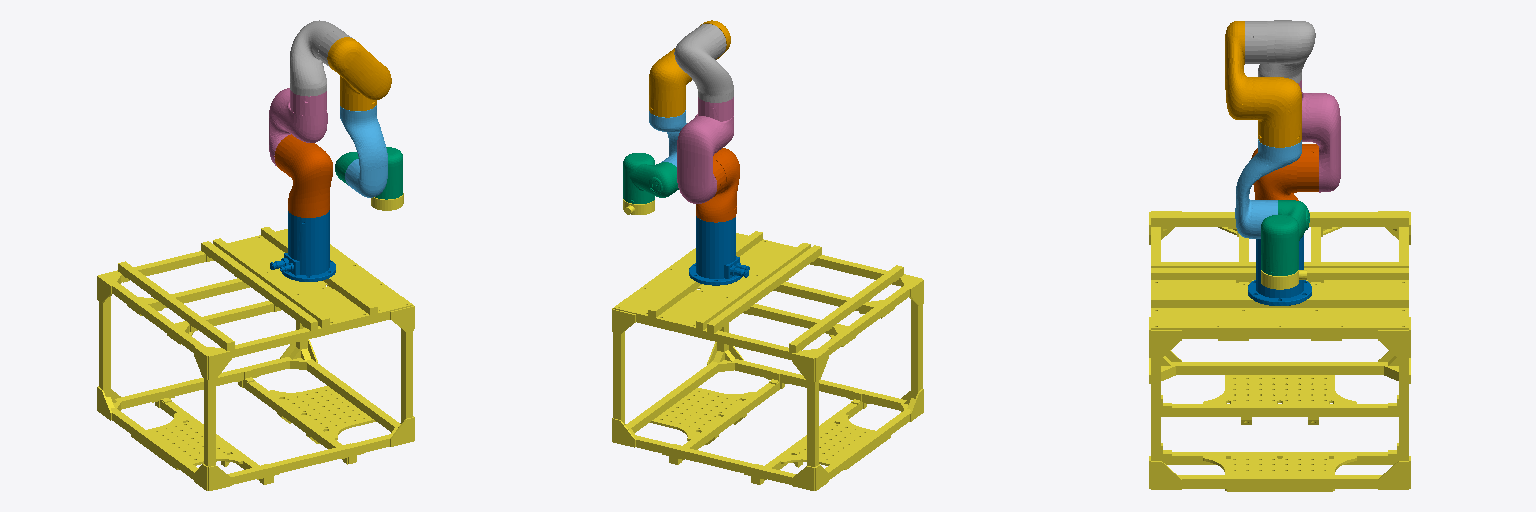
URDF robot description (franka_xarm7):
<?xml version="1.0" ?>
<robot name="franka_xarm7">
   <!--generated with mjcf_urdf_simple_converter (https://github.com/Yasu31/mjcf_urdf_simple_converter)-->
   <!--and modified by 55joe-->

   <link name="root">
      <inertial>
         <mass value="0"/>
         <inertia ixx="0.00" ixy="0.00" ixz="0.00" iyy="0.00" iyz="0.00" izz="0.00"/>
      </inertial>
   </link>
   <link name="link_x">
      <inertial>
         <mass value="0"/>
         <inertia ixx="0.00" ixy="0.00" ixz="0.00" iyy="0.00" iyz="0.00" izz="0.00"/>
      </inertial>
   </link>
   <link name="link_y">
      <inertial>
         <mass value="0"/>
         <inertia ixx="0.00" ixy="0.00" ixz="0.00" iyy="0.00" iyz="0.00" izz="0.00"/>
      </inertial>
   </link>
   <joint name="joint_x" type="prismatic">
      <parent link="root"/>
      <child link="link_x"/>
      <axis xyz="1 0 0"/>
      <limit effort="100" lower="-20" upper="20" velocity="0.50"/>
      <dynamics damping="10.0" friction="10"/>
   </joint>
   <joint name="joint_y" type="prismatic">
      <parent link="link_x"/>
      <child link="link_y"/>
      <axis xyz="0 1 0"/>
      <limit effort="100" lower="-20" upper="20" velocity="0.50"/>
      <dynamics damping="10.0" friction="10"/>
   </joint>
   <joint name="joint_theta" type="continuous">
      <parent link="link_y"/>
      <child link="base"/>
      <axis xyz="0 0 1"/>
      <dynamics damping="10.0" friction="1"/>
   </joint>

   <link name="base">
      <inertial>
         <origin xyz="0.0 0.0 0.0" rpy="0.0 0.0 0.0"/>
         <mass value="60"/>
         <inertia ixx="0.001" iyy="0.001" izz="0.001" ixy="0" ixz="0" iyz="0"/>
      </inertial>
      <visual name="base">
         <origin xyz="0.0144092103791508 7.158644489142947e-10 0.26972568940640185" rpy="0.0 -1.4011268661364618 3.141592653589793"/>
         <geometry>
            <mesh filename="internavi/assets/assets/base/base.stl"/>
         </geometry>
      </visual>
      <collision>
         <origin xyz="0.0144092103791508 7.158644489142947e-10 0.26972568940640185" rpy="0.0 -1.4011268661364618 3.141592653589793"/>
         <geometry>
            <mesh filename="internavi/assets/assets/base/base.stl"/>
         </geometry>
      </collision>
   </link>

   <!-- arm links -->
   <link name="link_base">
      <inertial>
         <origin xyz="-0.021131 -0.0016302 0.056488" rpy="0.44023105215876746 -0.1301362535007946 1.5177281818052935"/>
         <mass value="0.88556"/>
         <inertia ixx="0.00382023" iyy="0.00335282" izz="0.00167725" ixy="0" ixz="0" iyz="0"/>
      </inertial>
      <visual name="link_base">
         <origin xyz="-0.002330920659259287 7.635029826604813e-05 0.06466085765451927" rpy="0.051864352546477366 -0.00040942535987054107 1.5199482510605278"/>
         <geometry>
            <mesh filename="internavi/assets/assets/xarm7/link_base.stl"/>
         </geometry>
      </visual>
      <collision>
         <origin xyz="-0.002330920659259287 7.635029826604813e-05 0.06466085765451927" rpy="0.051864352546477366 -0.00040942535987054107 1.5199482510605278"/>
         <geometry>
            <mesh filename="internavi/assets/assets/xarm7/link_base.stl"/>
         </geometry>
      </collision>
   </link>

   <joint type="fixed" name="base2link_base_fixed">
      <parent link="base"/>
      <child link="link_base"/>
      <origin xyz="0.1395 0.0 0.443" rpy="0.0 0.0 0.0"/>
   </joint>
   
   <link name="link1">
      <inertial>
         <origin xyz="-0.0002 0.02905 -0.01233" rpy="-0.4080989784149497 -0.017863810427217963 -0.04272503237136302"/>
         <mass value="2.382"/>
         <inertia ixx="0.00569127" iyy="0.00533384" izz="0.00293865" ixy="0" ixz="0" iyz="0"/>
      </inertial>
      <visual name="link1">
         <origin xyz="-0.0001418553332473717 0.0074638475848720935 -0.02711420915765274" rpy="-0.3335973180073475 0.0043034379640525255 -0.0013704267832475303"/>
         <geometry>
            <mesh filename="internavi/assets/assets/xarm7/link1.stl"/>
         </geometry>
      </visual>
      <collision>
         <origin xyz="-0.0001418553332473717 0.0074638475848720935 -0.02711420915765274" rpy="-0.3335973180073475 0.0043034379640525255 -0.0013704267832475303"/>
         <geometry>
            <mesh filename="internavi/assets/assets/xarm7/link1.stl"/>
         </geometry>
      </collision>
   </link>

   <joint type="revolute" name="joint1">
      <parent link="link_base"/>
      <child link="link1"/>
      <origin xyz="0.0 0.0 0.267" rpy="0.0 0.0 0.0"/>
      <axis xyz="0.0 0.0 1.0"/>
      <limit lower="-6.28319" upper="6.28319" effort="50" velocity="3.14"/>
      <dynamics damping="10" friction="1"/>
   </joint>

   <link name="link2">
      <inertial>
         <origin xyz="0.00022 -0.12856 0.01735" rpy="2.089839775631659 -0.01617916364415617 -0.008620557950960617"/>
         <mass value="1.869"/>
         <inertia ixx="0.00959898" iyy="0.00937717" izz="0.00201315" ixy="0" ixz="0" iyz="0"/>
      </inertial>
      <visual name="link2">
         <origin xyz="-8.518079249929592e-05 -0.09124548913785831 0.04845536801044918" rpy="2.1639536091838565 -0.0020726553325203234 -0.001633118583858506"/>
         <geometry>
            <mesh filename="internavi/assets/assets/xarm7/link2.stl"/>
         </geometry>
      </visual>
      <collision>
         <origin xyz="-8.518079249929592e-05 -0.09124548913785831 0.04845536801044918" rpy="2.1639536091838565 -0.0020726553325203234 -0.001633118583858506"/>
         <geometry>
            <mesh filename="internavi/assets/assets/xarm7/link2.stl"/>
         </geometry>
      </collision>
   </link>
   
   <joint type="revolute" name="joint2">
      <parent link="link1"/>
      <child link="link2"/>
      <origin xyz="0.0 0.0 0.0" rpy="-1.5707963267948957 0.0 0.0"/>
      <axis xyz="0.0 0.0 1.0"/>
      <limit lower="-2.059" upper="2.0944" effort="50" velocity="3.14"/>
      <dynamics damping="10" friction="1"/>
   </joint>
   
   <link name="link3">
      <inertial>
         <origin xyz="0.0466 -0.02463 -0.00768" rpy="0.6444127540677473 0.5687517069246195 0.10346249911406036"/>
         <mass value="1.6383"/>
         <inertia ixx="0.00351721" iyy="0.00294089" izz="0.00195868" ixy="0" ixz="0" iyz="0"/>
      </inertial>
      <visual name="link3">
         <origin xyz="0.03116049140567881 0.0020180908913441306 -0.022566212798909326" rpy="0.40910176908308016 0.6031276066359279 0.26148088250700474"/>
         <geometry>
            <mesh filename="internavi/assets/assets/xarm7/link3.stl"/>
         </geometry>
      </visual>
      <collision>
         <origin xyz="0.03116049140567881 0.0020180908913441306 -0.022566212798909326" rpy="0.40910176908308016 0.6031276066359279 0.26148088250700474"/>
         <geometry>
            <mesh filename="internavi/assets/assets/xarm7/link3.stl"/>
         </geometry>
      </collision>
   </link>
   
   <joint type="revolute" name="joint3">
      <parent link="link2"/>
      <child link="link3"/>
      <origin xyz="0.0 -0.293 0.0" rpy="1.5707963267948963 0.0 0.0"/>
      <axis xyz="0.0 0.0 1.0"/>
      <limit lower="-6.28319" upper="6.28319" effort="30" velocity="3.14"/>
      <dynamics damping="5" friction="1"/>
   </joint>
   
   <link name="link4">
      <inertial>
         <origin xyz="0.07047 -0.11575 0.012" rpy="2.211979235177638 -0.629020395199348 0.029707593805708754"/>
         <mass value="1.7269"/>
         <inertia ixx="0.00657137" iyy="0.00647948" izz="0.00186763" ixy="0" ixz="0" iyz="0"/>
      </inertial>
      <visual name="link4">
         <origin xyz="0.05894856993202059 -0.07610492940771568 0.04029048800181529" rpy="2.138364865984172 0.1740691355031294 0.6641344305654312"/>
         <geometry>
            <mesh filename="internavi/assets/assets/xarm7/link4.stl"/>
         </geometry>
      </visual>
      <collision>
         <origin xyz="0.05894856993202059 -0.07610492940771568 0.04029048800181529" rpy="2.138364865984172 0.1740691355031294 0.6641344305654312"/>
         <geometry>
            <mesh filename="internavi/assets/assets/xarm7/link4.stl"/>
         </geometry>
      </collision>
   </link>
   
   <joint type="revolute" name="joint4">
      <parent link="link3"/>
      <child link="link4"/>
      <origin xyz="0.0525 0.0 0.0" rpy="1.5707963267948963 0.0 0.0"/>
      <axis xyz="0.0 0.0 1.0"/>
      <limit lower="-0.19198" upper="3.927" effort="30" velocity="3.14"/>
      <dynamics damping="5" friction="1"/>
   </joint>

   <link name="link5">
      <inertial>
         <origin xyz="-0.00032 0.01604 -0.026" rpy="-0.060862747127358625 0.002444739360476511 0.042364854361127045"/>
         <mass value="1.3203"/>
         <inertia ixx="0.00534729" iyy="0.00499076" izz="0.0013489" ixy="0" ixz="0" iyz="0"/>
      </inertial>
      <visual name="link5">
         <origin xyz="-0.0001655187184941466 0.0317918270067044 -0.07229184425357928" rpy="-0.2898391281315331 0.0037330573805807177 0.016070437312645958"/>
         <geometry>
            <mesh filename="internavi/assets/assets/xarm7/link5.stl"/>
         </geometry> 
      </visual>
      <collision>
         <origin xyz="-0.0001655187184941466 0.0317918270067044 -0.07229184425357928" rpy="-0.2898391281315331 0.0037330573805807177 0.016070437312645958"/>
         <geometry>
            <mesh filename="internavi/assets/assets/xarm7/link5.stl"/>
         </geometry>
      </collision>
   </link>
   <joint type="revolute" name="joint5">
      <parent link="link4"/>
      <child link="link5"/>
      <origin xyz="0.0775 -0.3425 0.0" rpy="1.5707963267948963 0.0 0.0"/>
      <axis xyz="0.0 0.0 1.0"/>
      <limit lower="-6.28319" upper="6.28319" effort="30" velocity="3.14"/>
      <dynamics damping="5" friction="1"/>
   </joint>

   <link name="link6">
      <inertial>
         <origin xyz="0.06469 0.03278 0.02141" rpy="-2.5954348069975257 -1.278629910190865 0.0043130309212413565"/>
         <mass value="1.325"/>
         <inertia ixx="0.00245421" iyy="0.00221646" izz="0.00107273" ixy="0" ixz="0" iyz="0"/>
      </inertial>
      <visual name="link6">
         <origin xyz="0.04899680629282065 0.011248594145888224 0.009047722000570012" rpy="-2.928036193060328 -1.2794502935065157 0.08501521097360687"/>
         <geometry>
            <mesh filename="internavi/assets/assets/xarm7/link6.stl"/>
         </geometry> 
      </visual>
      <collision>
         <origin xyz="0.04899680629282065 0.011248594145888224 0.009047722000570012" rpy="-2.928036193060328 -1.2794502935065157 0.08501521097360687"/>
         <geometry>
            <mesh filename="internavi/assets/assets/xarm7/link6.stl"/>
         </geometry>
      </collision>
   </link>
   <joint type="revolute" name="joint6">
      <parent link="link5"/>
      <child link="link6"/>
      <origin xyz="0.0 0.0 0.0" rpy="1.5707963267948963 0.0 0.0"/>
      <axis xyz="0.0 0.0 1.0"/>
      <limit lower="-1.69297" upper="3.14159" effort="20" velocity="3.14"/>
      <dynamics damping="2" friction="1"/>
   </joint>

   <link name="link7">
      <inertial>
         <origin xyz="0.0 -0.00677 -0.01098" rpy="3.141592653589793 -1.521839417373044 -1.5707963267948966"/>
         <mass value="0.17"/>
         <inertia ixx="0.000132176" iyy="9.3e-05" izz="5.85236e-05" ixy="0" ixz="0" iyz="0"/>
      </inertial>
      <visual name="end_tool">
         <origin xyz="3.414990570124057e-08 -0.0014353044722618057 -0.013516014737403683" rpy="3.141592653589793 -1.5687955761878776 -1.5707963267948966"/>
         <geometry>
            <mesh filename="internavi/assets/assets/xarm7/end_tool.stl"/>
         </geometry>
      </visual>
      <collision>
         <origin xyz="3.414990570124057e-08 -0.0014353044722618057 -0.013516014737403683" rpy="3.141592653589793 -1.5687955761878776 -1.5707963267948966"/>
         <geometry>
            <mesh filename="internavi/assets/assets/xarm7/end_tool.stl"/>
         </geometry>
      </collision>
   </link>

   <joint type="revolute" name="joint7">
      <parent link="link6"/>
      <child link="link7"/>
      <origin xyz="0.076 0.097 0.0" rpy="-1.5707963267948957 0.0 0.0"/>
      <axis xyz="0.0 0.0 1.0"/>
      <limit lower="-6.28319" upper="6.28319" effort="20" velocity="3.14"/>
      <dynamics damping="2" friction="1"/>
   </joint>

   <link name="tcp"/>

   <joint name="joint_tcp" type="fixed">
      <origin xyz="0 0 0.172" rpy="0 0 0"/>
      <parent link="xarm_gripper_base_link"/>
      <child link="tcp"/>
   </joint>

   <!-- from https://github.com/xArm-Developer/xarm_ros/blob/master/xarm_description/urdf/gripper/xarm_gripper.urdf.xacro -->
   <!-- XArm Gripper Start -->
   <link name="xarm_gripper_base_link">
      <inertial>
         <origin xyz="-0.00065489 -0.0018497 0.048028" rpy="0 0 0"/>
         <mass value="0.54156"/>
         <inertia ixx="0.00047106" ixy="3.9292E-07" ixz="2.6537E-06" iyy="0.00033072" iyz="-1.0975E-05" izz="0.00025642"/>
      </inertial>
      <visual>
         <origin xyz="0 0 0" rpy="0 0 0"/>
         <geometry>
            <mesh filename="internavi/assets/assets/xarm7/base_link.stl"/>
         </geometry>
         <material name="White">
            <color rgba="1.0 1.0 1.0 1.0"/>
         </material>
      </visual>
      <collision>
         <origin xyz="0 0 0" rpy="0 0 0"/>
         <geometry>
            <mesh filename="internavi/assets/assets/xarm7/base_link.stl"/>
         </geometry>
      </collision>
   </link>

   <joint name="gripper_fix" type="fixed">
      <parent link="link7"/>
      <child link="xarm_gripper_base_link"/>
      <origin xyz="0 0 0" rpy="0 0 0"/>
   </joint>

   <link name="left_outer_knuckle">
      <inertial>
         <origin xyz="2.9948E-14 0.021559 0.015181" rpy="0 0 0"/>
         <mass value="0.033618"/>
         <inertia ixx="1.9111E-05" ixy="-1.8803E-17" ixz="-1.1002E-17" iyy="6.6256E-06" iyz="-7.3008E-06" izz="1.3185E-05"/>
      </inertial>
      <visual>
         <origin xyz="0 0 0" rpy="0 0 0"/>
         <geometry>
            <mesh filename="internavi/assets/assets/xarm7/left_outer_knuckle.stl"/>
         </geometry>
         <material name="Silver">
            <color rgba="0.753 0.753 0.753 1.0"/>
         </material>
      </visual>
      <collision>
         <origin xyz="0 0 0" rpy="0 0 0"/>
         <geometry>
            <mesh filename="internavi/assets/assets/xarm7/left_outer_knuckle.stl"/>
         </geometry>
      </collision>
   </link>

   <link name="left_finger">
      <inertial>
         <origin xyz="-2.4536E-14 -0.016413 0.029258" rpy="0 0 0"/>
         <mass value="0.048304"/>
         <inertia ixx="1.7493E-05" ixy="-4.2156E-19" ixz="6.9164E-18" iyy="1.7225E-05" iyz="4.6433E-06" izz="5.1466E-06"/>
      </inertial>
      <visual>
         <origin xyz="0 0 0" rpy="0 0 0"/>
         <geometry>
            <mesh filename="internavi/assets/assets/xarm7/left_finger.stl"/>
         </geometry>
         <material name="Silver">
            <color rgba="0.753 0.753 0.753 1.0"/>
         </material>
      </visual>
      <collision>
         <origin xyz="0 0 0" rpy="0 0 0"/>
         <geometry>
            <mesh filename="internavi/assets/assets/xarm7/left_finger.stl"/>
         </geometry>
      </collision>
   </link>

   <link name="left_inner_knuckle">
      <inertial>
         <origin xyz="1.866E-06 0.022047 0.026133" rpy="0 0 0"/>
         <mass value="0.023013"/>
         <inertia ixx="6.0949E-06" ixy="6.0665E-11" ixz="7.191E-11" iyy="6.0197E-06" iyz="-2.7531E-06" izz="5.0784E-06"/>
      </inertial>
      <visual>
         <origin xyz="0 0 0" rpy="0 0 0"/>
         <geometry>
            <mesh filename="internavi/assets/assets/xarm7/left_inner_knuckle.stl"/>
         </geometry>
         <material name="Silver">
            <color rgba="0.753 0.753 0.753 1.0"/>
         </material>
      </visual>
      <collision>
         <origin xyz="0 0 0" rpy="0 0 0"/>
         <geometry>
            <mesh filename="internavi/assets/assets/xarm7/left_inner_knuckle.stl"/>
         </geometry>
      </collision>
   </link>

   <link name="right_outer_knuckle">
      <inertial>
         <origin xyz="-3.1669E-14 -0.021559 0.015181" rpy="0 0 0"/>
         <mass value="0.033618"/>
         <inertia ixx="1.9111E-05" ixy="-1.8789E-17" ixz="1.0986E-17" iyy="6.6256E-06" iyz="7.3008E-06" izz="1.3185E-05"/>
      </inertial>
      <visual>
         <origin xyz="0 0 0" rpy="0 0 0"/>
         <geometry>
            <mesh filename="internavi/assets/assets/xarm7/right_outer_knuckle.stl"/>
         </geometry>
         <material name="Silver">
            <color rgba="0.753 0.753 0.753 1.0"/>
         </material>
      </visual>
      <collision>
         <origin xyz="0 0 0" rpy="0 0 0"/>
         <geometry>
            <mesh filename="internavi/assets/assets/xarm7/right_outer_knuckle.stl"/>
         </geometry>
      </collision>
   </link>

   <link name="right_finger">
      <inertial>
         <origin xyz="2.5618E-14 0.016413 0.029258" rpy="0 0 0"/>
         <mass value="0.048304"/>
         <inertia ixx="1.7493E-05" ixy="-5.0014E-19" ixz="-7.5079E-18" iyy="1.7225E-05" iyz="-4.6435E-06" izz="5.1466E-06"/>
      </inertial>
      <visual>
         <origin xyz="0 0 0" rpy="0 0 0"/>
         <geometry>
            <mesh filename="internavi/assets/assets/xarm7/right_finger.stl"/>
         </geometry>
         <material name="Silver">
            <color rgba="0.753 0.753 0.753 1.0"/>
         </material>
      </visual>
      <collision>
         <origin xyz="0 0 0" rpy="0 0 0"/>
         <geometry>
            <mesh filename="internavi/assets/assets/xarm7/right_finger.stl"/>
         </geometry>
      </collision>
   </link>

   <link name="right_inner_knuckle">
      <inertial>
         <origin xyz="1.866E-06 -0.022047 0.026133" rpy="0 0 0"/>
         <mass value="0.023013"/>
         <inertia ixx="6.0949E-06" ixy="-6.0665E-11" ixz="7.191E-11" iyy="6.0197E-06" iyz="2.7531E-06" izz="5.0784E-06"/>
      </inertial>
      <visual>
         <origin xyz="0 0 0" rpy="0 0 0"/>
         <geometry>
            <mesh filename="internavi/assets/assets/xarm7/right_inner_knuckle.stl"/>
         </geometry>
         <material name="Silver">
            <color rgba="0.753 0.753 0.753 1.0"/>
         </material>
      </visual>
      <collision>
         <origin xyz="0 0 0" rpy="0 0 0"/>
         <geometry>
            <mesh filename="internavi/assets/assets/xarm7/right_inner_knuckle.stl"/>
         </geometry>
      </collision>
   </link>

   <joint name="left_drive_joint" type="revolute">
      <origin xyz="0 0.035 0.059098" rpy="0 0 0"/>
      <parent link="xarm_gripper_base_link"/>
      <child link="left_outer_knuckle"/>
      <axis xyz="1 0 0"/>
      <limit lower="0" upper="0.85" effort="50" velocity="2"/>
   </joint>

   <joint name="left_finger_joint" type="revolute">
      <origin xyz="0 0.035465 0.042039" rpy="0 0 0"/>
      <parent link="left_outer_knuckle"/>
      <child link="left_finger"/>
      <axis xyz="-1 0 0"/>
      <limit lower="0" upper="0.85" effort="50" velocity="2"/>
   </joint>

   <joint name="left_inner_knuckle_joint" type="revolute">
      <origin xyz="0 0.02 0.074098" rpy="0 0 0"/>
      <parent link="xarm_gripper_base_link"/>
      <child link="left_inner_knuckle"/>
      <axis xyz="1 0 0"/>
      <limit lower="0" upper="0.85" effort="50" velocity="2"/>
   </joint>

   <joint name="right_drive_joint" type="revolute">
      <origin xyz="0 -0.035 0.059098" rpy="0 0 0"/>
      <parent link="xarm_gripper_base_link"/>
      <child link="right_outer_knuckle"/>
      <axis xyz="-1 0 0"/>
      <limit lower="0" upper="0.85" effort="50" velocity="2"/>
   </joint>

   <joint name="right_finger_joint" type="revolute">
      <origin xyz="0 -0.035465 0.042039" rpy="0 0 0"/>
      <parent link="right_outer_knuckle"/>
      <child link="right_finger"/>
      <axis xyz="1 0 0"/>
      <limit lower="0" upper="0.85" effort="50" velocity="2"/>
   </joint>

   <joint name="right_inner_knuckle_joint" type="revolute">
      <origin xyz="0 -0.02 0.074098" rpy="0 0 0"/>
      <parent link="xarm_gripper_base_link"/>
      <child link="right_inner_knuckle"/>
      <axis xyz="-1 0 0"/>
      <limit lower="0" upper="0.85" effort="50" velocity="2"/>
   </joint>

</robot>

--- What the picture shows (computed from the rendered views, not written in the file) ---
The picture shows the robot from 3 angles, left to right: view 1: azimuth 30°, elevation 25°; view 2: azimuth 150°, elevation 25°; view 3: azimuth 270°, elevation 25°; orthographic projection.
Robot: franka_xarm7 — 20 links, 19 joints (13 revolute, 1 continuous, 2 prismatic, 3 fixed); root link root; default pose: all joints at 0.
Links seen in each view (by area): view 1: base, link1, link4, link_base, link5, link3, link2, link6; view 2: base, link2, link3, link_base, link4, link6, link1, link5; view 3: base, link4, link3, link2, link5, link6, link1, link_base, link7.
Boxes of the visible links, box(x1,y1,x2,y2) form: base: box(97, 227, 414, 490); link1: box(274, 134, 332, 217); link4: box(327, 37, 391, 110); link_base: box(270, 210, 335, 281); link5: box(340, 105, 387, 197); link3: box(290, 20, 351, 96); link2: box(269, 88, 327, 165); link6: box(335, 147, 402, 199); base: box(612, 231, 923, 490); link2: box(677, 97, 733, 203); link3: box(674, 24, 733, 102); link_base: box(689, 216, 749, 285); link4: box(649, 20, 730, 117); link6: box(623, 153, 678, 203); link1: box(696, 148, 739, 222); link5: box(649, 110, 686, 166); base: box(1149, 211, 1410, 491); link4: box(1225, 21, 1301, 147); link3: box(1245, 20, 1315, 82); link2: box(1298, 80, 1340, 192); link5: box(1235, 139, 1301, 238); link6: box(1261, 200, 1309, 275); link1: box(1251, 144, 1318, 200); link_base: box(1248, 235, 1311, 305); link7: box(1261, 270, 1306, 289).
Size in the robot's own frame: 0.6572 by 0.508 by 1.01 metres.
Meshes: 16 distinct files referenced, 9 mesh visuals loaded (9 binary STL); not drawn: 7 (reference not matched to a file when rendering).
